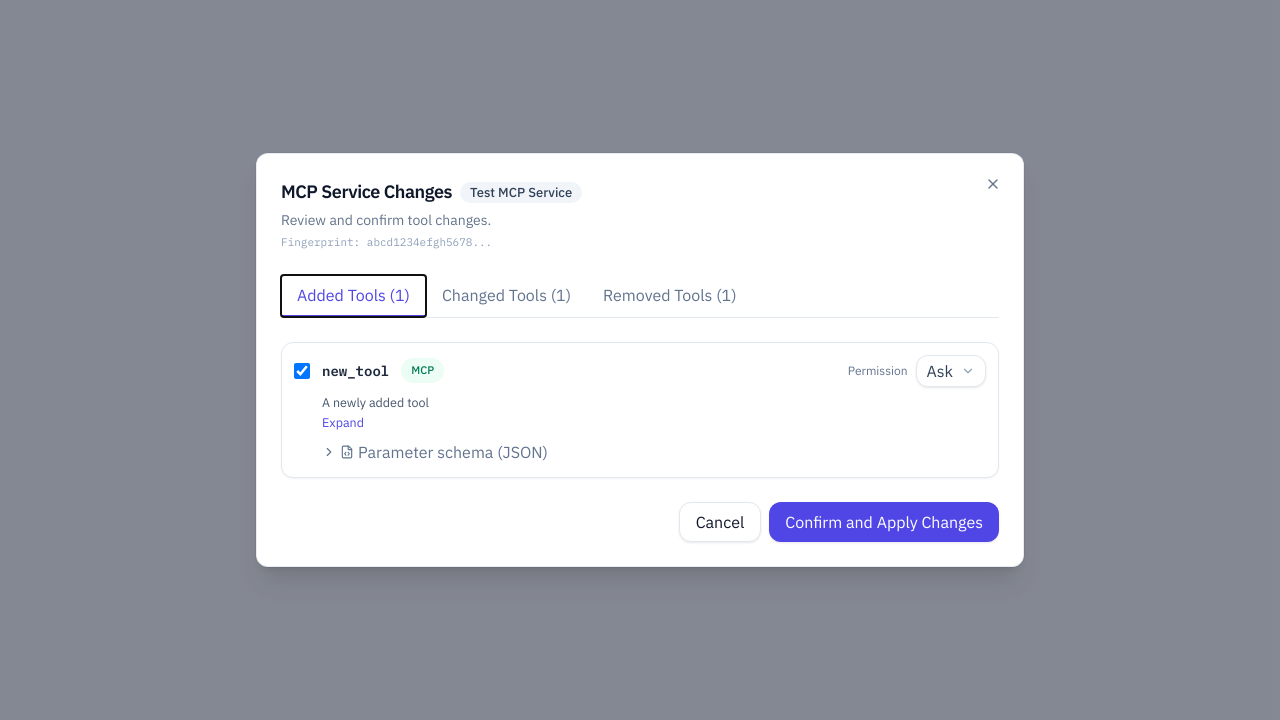
it: McpChangesDialog › switches to changed tools tab and displays old vs new description
Step 1. Click the tab "Changed Tools (1)" → (506, 296), box [426, 274, 587, 316]
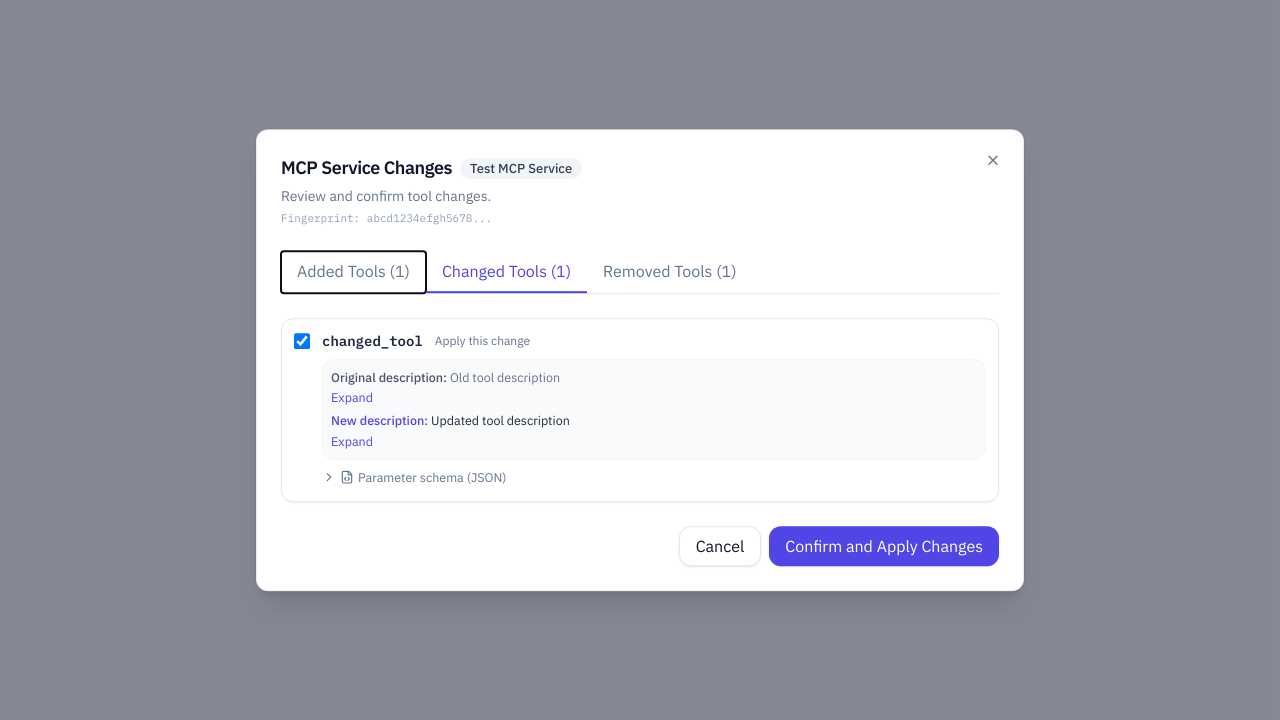
Expected: the text "changed_tool" is shown, [322, 331, 423, 351]
Expected: the text "Old tool description" is shown, [450, 369, 560, 385]
Expected: the text "Updated tool description" is shown, [431, 412, 570, 428]
